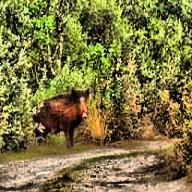boar: (32, 87, 90, 148)
